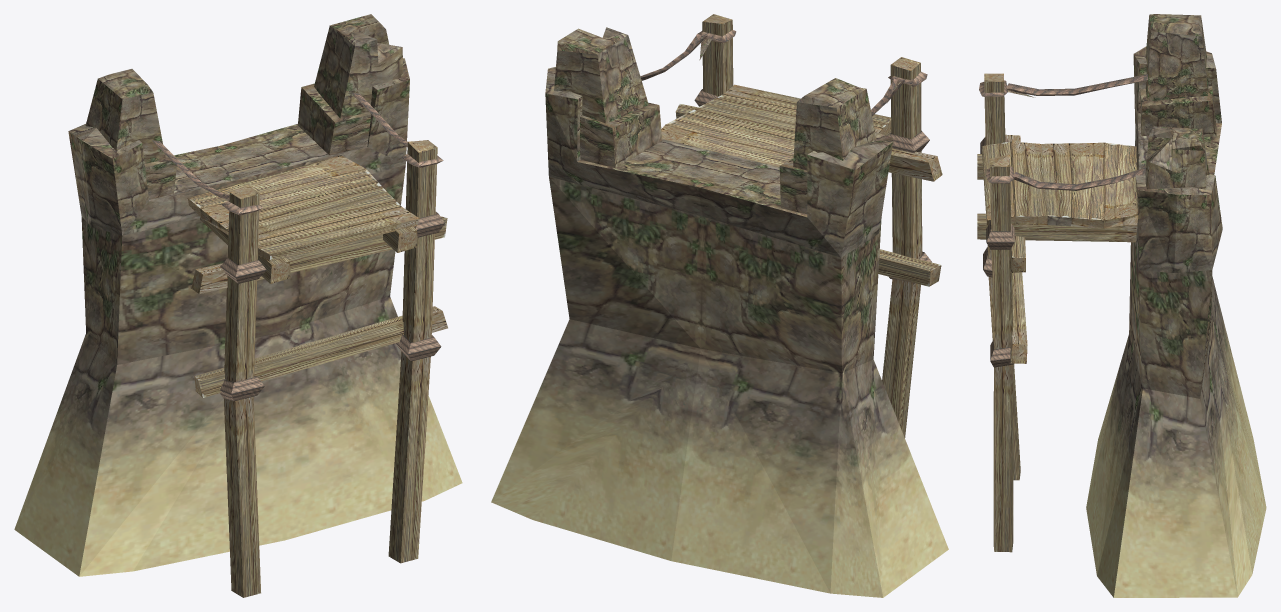
Rendered from C3SMFOOTBRIDGE3.obj.
3 views of the same model, side by side, from view 1: azimuth 30°, elevation 25°; view 2: azimuth 150°, elevation 25°; view 3: azimuth 270°, elevation 25° (orthographic). The views are drawn at different scales.
Visible parts, largest first — view 1: Node 0; view 2: Node 0; view 3: Node 0.
Boxes of the visible parts, left/top/right/bottom form: Node 0: left=14, top=14, right=462, bottom=597; Node 0: left=491, top=14, right=948, bottom=597; Node 0: left=977, top=14, right=1266, bottom=597.
Bounding box in the file's own units: 11.43 × 13.04 × 7.74.
Materials: 2 (2 with a texture image).
